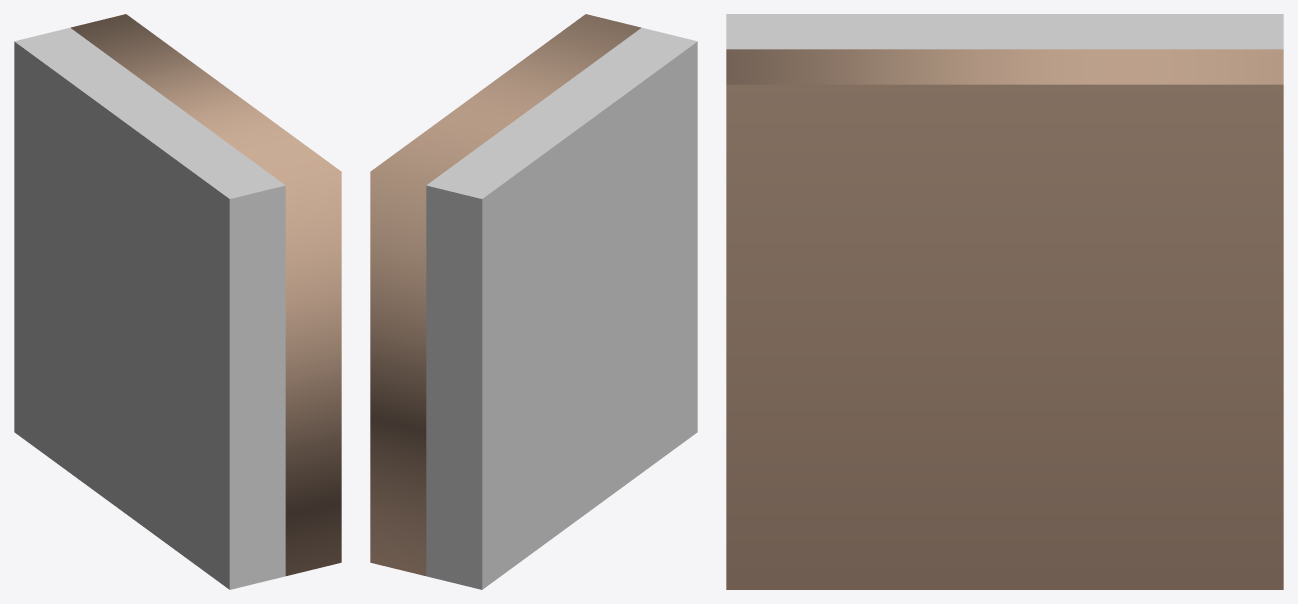
File: art-canvas-square-small (%wall).glb
3 renders of one model, left to right at view 1: azimuth 30°, elevation 25°; view 2: azimuth 150°, elevation 25°; view 3: azimuth 270°, elevation 25°, orthographic. The views are drawn at different scales.
Parts seen in each view (by area): view 1: art-canvas-square-small (%wall); view 2: art-canvas-square-small (%wall); view 3: art-canvas-square-small (%wall).
Boxes of the visible parts, x1,y1,x2,y2 form: art-canvas-square-small (%wall): [14, 14, 341, 589]; art-canvas-square-small (%wall): [370, 14, 697, 589]; art-canvas-square-small (%wall): [726, 14, 1283, 589].
Bounding box in the file's own units: 0.15 × 0.5 × 0.5.
